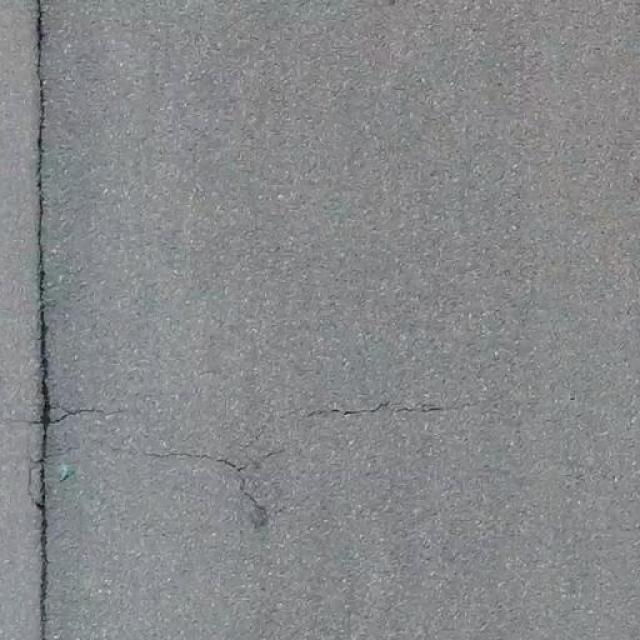Crack: (22, 1, 72, 640), (87, 428, 293, 526), (287, 384, 505, 427)
